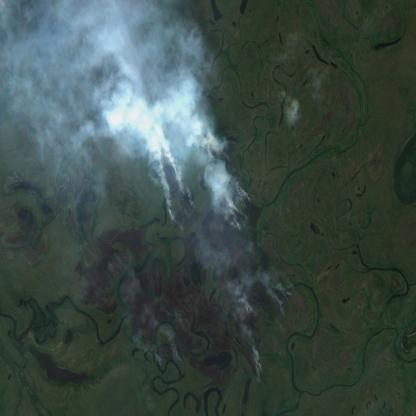fire: (141, 136, 297, 386)
